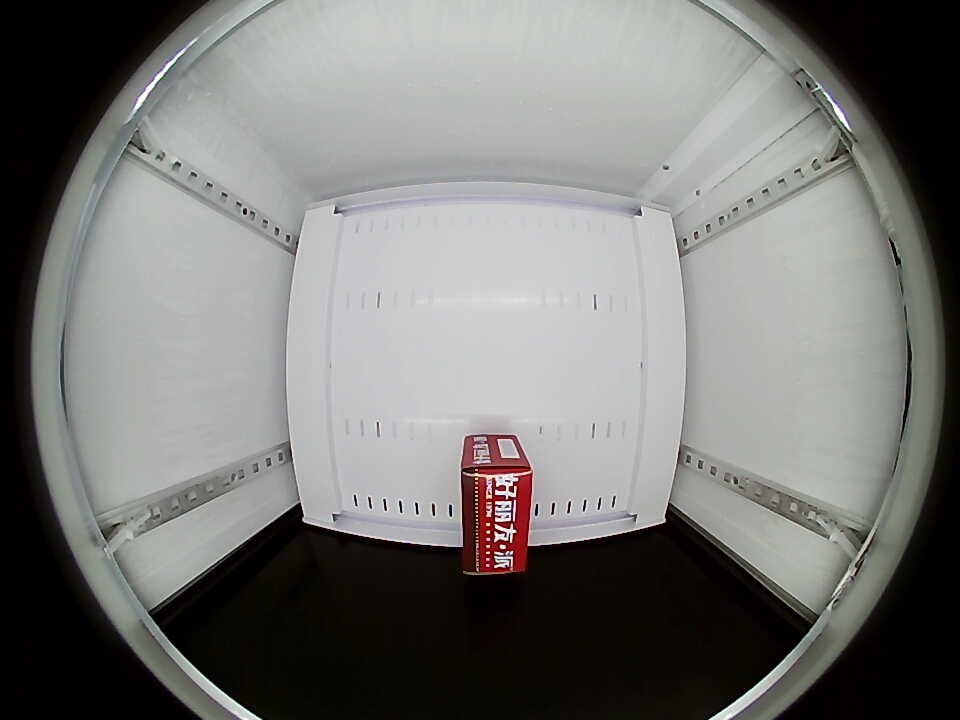haoliyou: (461, 438, 533, 576)
